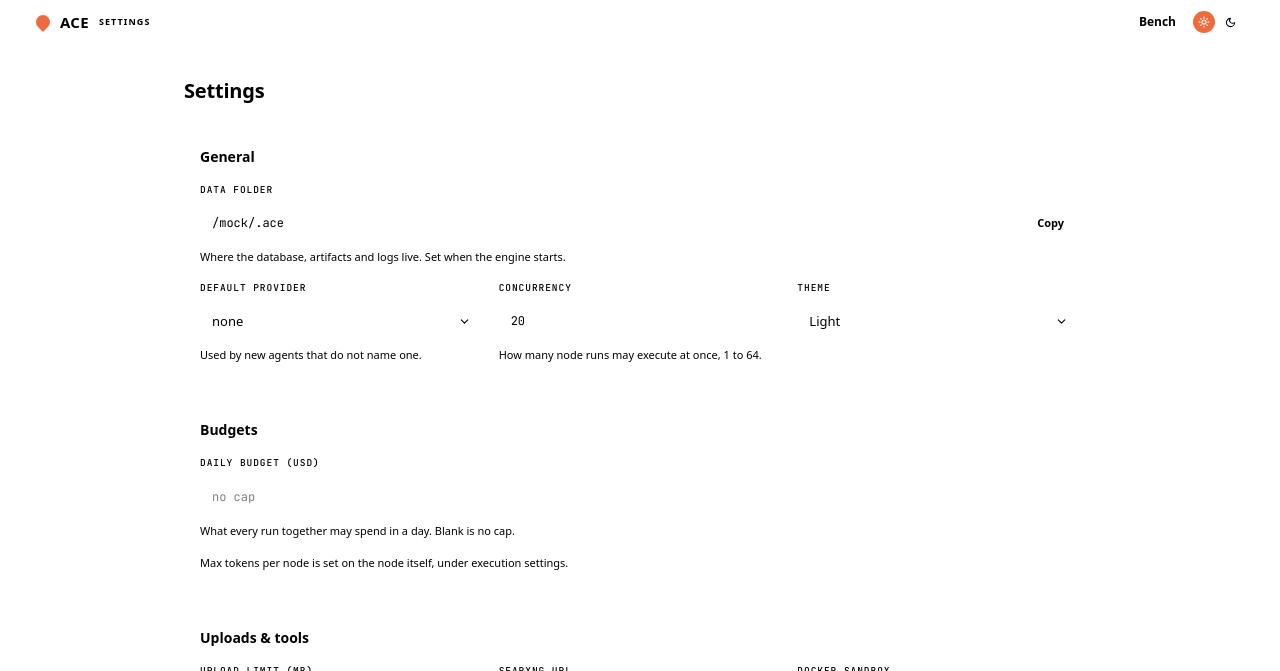
Test case: FR-SYS-005 Settings screen › shows an error toast and keeps the server value when the engine refuses a save
Replace the text in the number field with test id "settings-concurrency" with "7" at (640, 321), box [499, 302, 781, 340]
Then press Enter
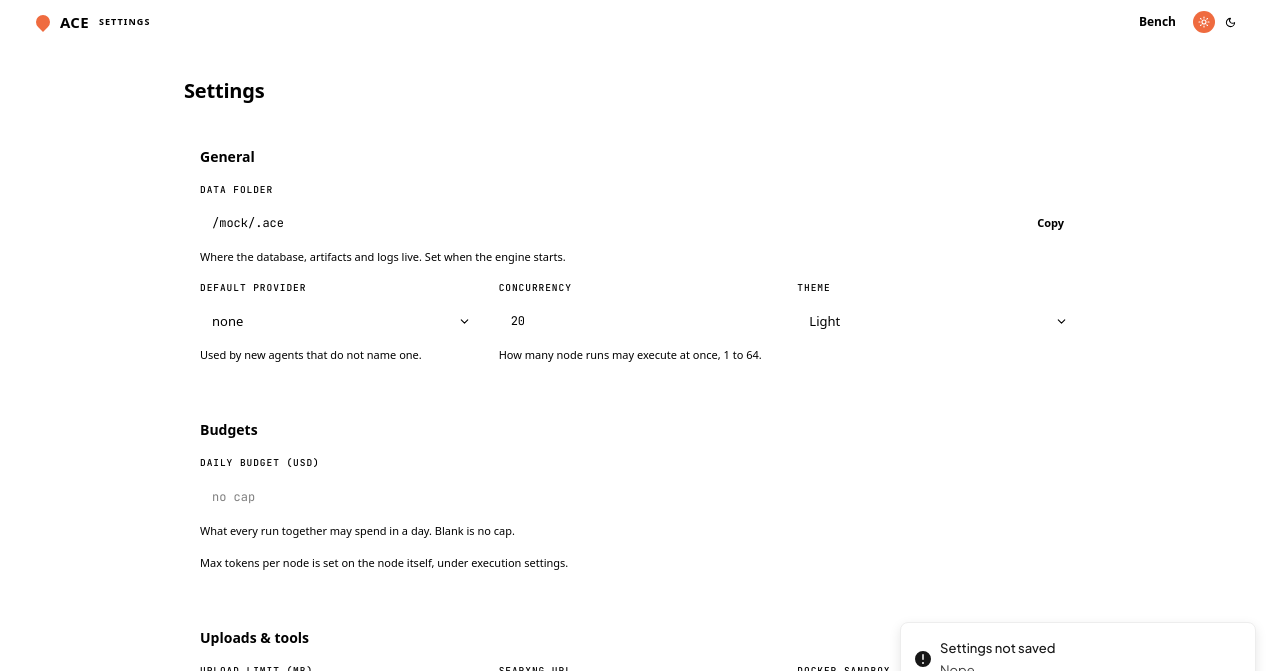
Now the text "Settings not saved" is shown, box [940, 639, 1056, 659]
